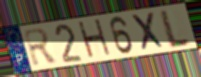2: (55, 23, 83, 63)
6: (109, 15, 134, 56)
H: (76, 18, 114, 62)
L: (159, 8, 192, 50)
R: (22, 27, 60, 68)
X: (129, 11, 168, 53)
